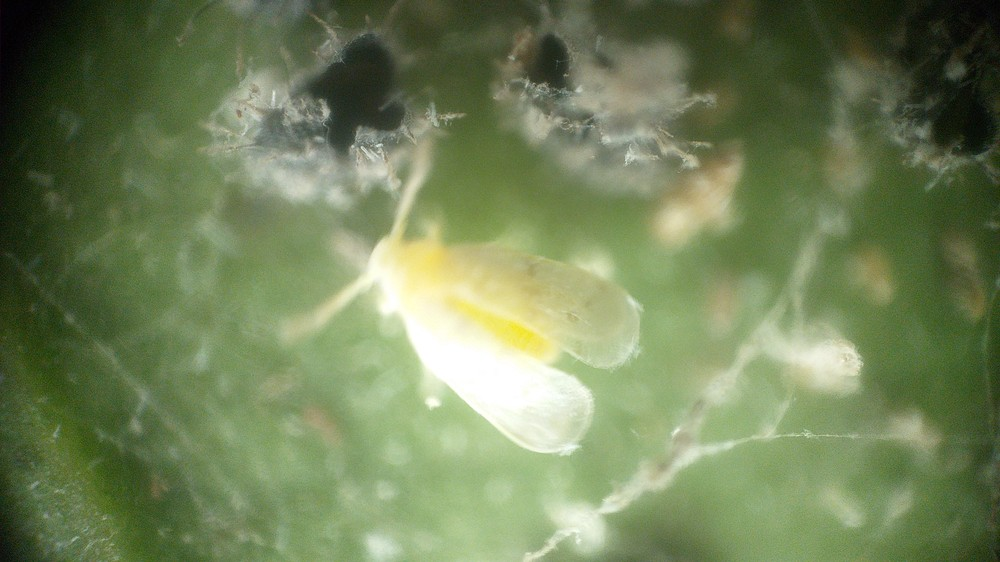Mosca Blanca: (291, 145, 666, 473)
